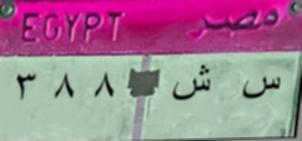3: (11, 69, 38, 107)
8: (48, 69, 76, 105), (91, 70, 116, 104)
seen: (239, 72, 284, 104)
sheen: (172, 62, 214, 110)
